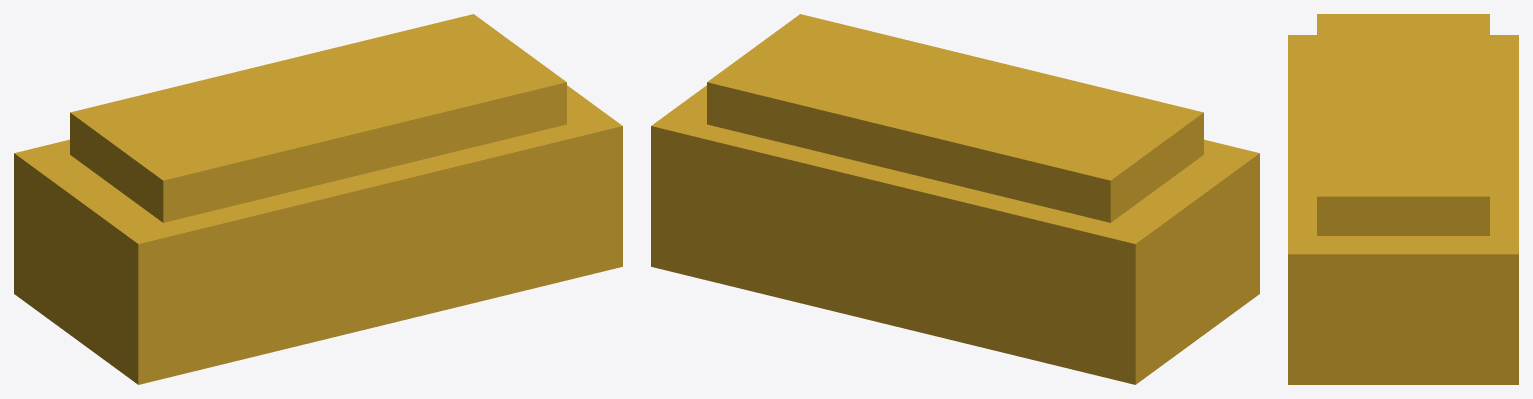
File: goldbar.glb
The picture shows the model from 3 angles, left to right: view 1: azimuth 30°, elevation 25°; view 2: azimuth 150°, elevation 25°; view 3: azimuth 270°, elevation 25°; orthographic projection. The views are drawn at different scales.
Visible parts, largest first — view 1: goldbar; view 2: goldbar; view 3: goldbar.
Boxes of the visible parts, x1,y1,x2,y2 form: goldbar: [14, 14, 622, 384]; goldbar: [651, 14, 1259, 384]; goldbar: [1288, 14, 1518, 384].
Size of the model in its own units: 0.36 by 0.13 by 0.16.
